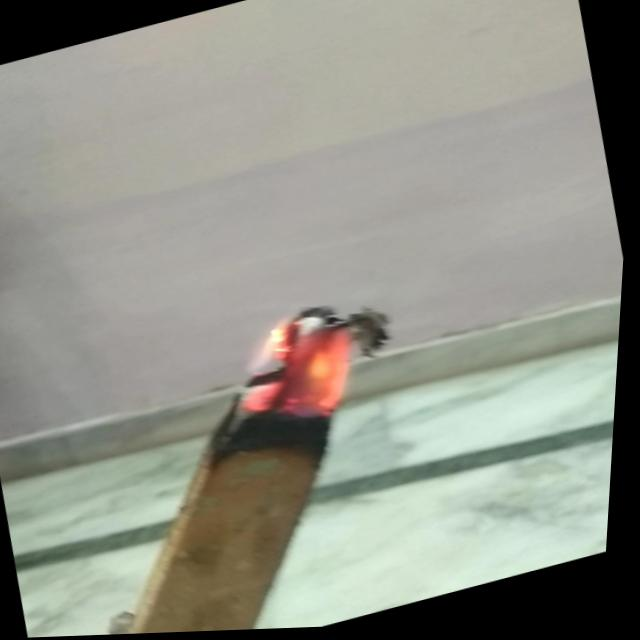fire: (228, 300, 376, 434)
